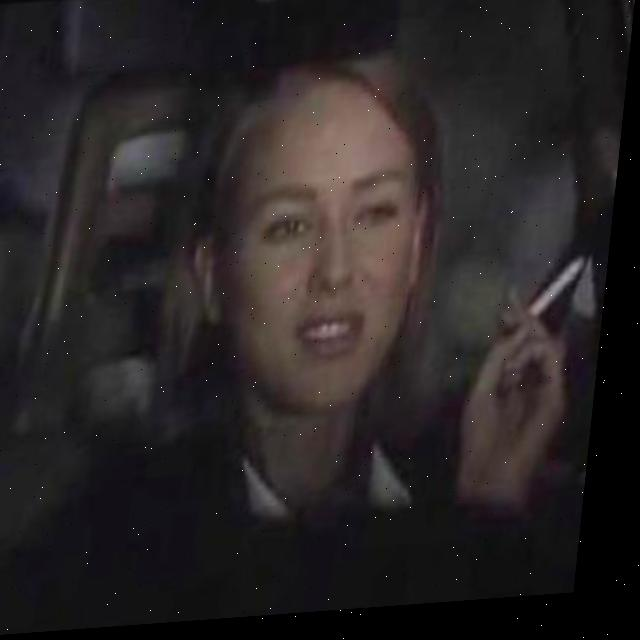cigarette: (529, 264, 595, 331)
